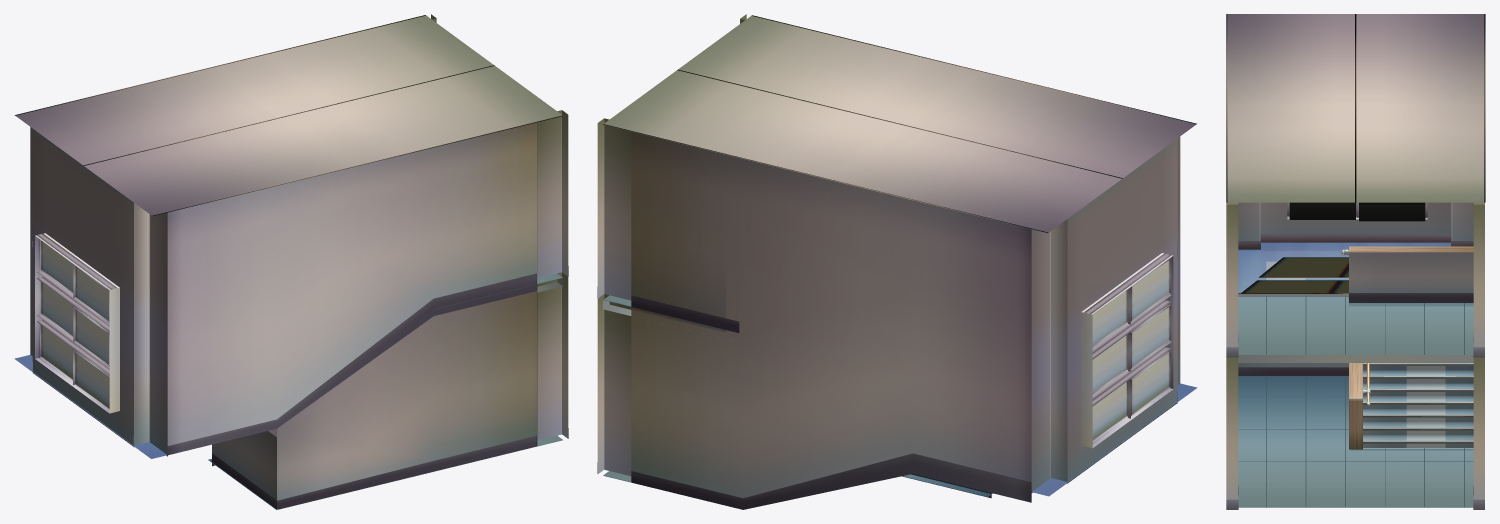
Rendered from JpsStairs_lowfloorB.FBX.
The picture shows the model from 3 angles, left to right: view 1: azimuth 30°, elevation 25°; view 2: azimuth 150°, elevation 25°; view 3: azimuth 270°, elevation 25°; orthographic projection. The views are drawn at different scales.
Visible parts, largest first — view 1: Sta_LowF_B_wallB, Sta_LowF_B_StairsCeiling, Sta_LowF_B_window, Sta_LowF_B_stairs; view 2: Sta_LowF_B_wallF, Sta_LowF_B_StairsCeiling, Sta_LowF_B_window, Sta_LowF_B_stairs; view 3: Sta_LowF_B_stairs, Sta_LowF_B_StairsCeiling, Sta_LowF_B_window, Sta_LowF_B_wallB, Sta_LowF_B_wallF, Sta_LowF_B_spotF, Sta_LowF_B_beam_add, Sta_LowF_B_baseboards.
Part boxes in pixels (x1,y1,x2,y2): Sta_LowF_B_wallB: (167,110,568,509); Sta_LowF_B_StairsCeiling: (14,15,562,216); Sta_LowF_B_window: (30,127,167,455); Sta_LowF_B_stairs: (14,273,562,509); Sta_LowF_B_wallF: (597,118,1031,509); Sta_LowF_B_StairsCeiling: (603,15,1196,233); Sta_LowF_B_window: (1031,136,1180,491); Sta_LowF_B_stairs: (603,295,1197,498); Sta_LowF_B_stairs: (1238,242,1473,507); Sta_LowF_B_StairsCeiling: (1226,14,1485,202); Sta_LowF_B_window: (1238,202,1473,240); Sta_LowF_B_wallB: (1226,202,1238,509); Sta_LowF_B_wallF: (1473,202,1484,509); Sta_LowF_B_spotF: (1238,257,1348,293); Sta_LowF_B_beam_add: (1289,202,1425,221); Sta_LowF_B_baseboards: (1238,234,1473,249).
Bounding box in the file's own units: 826 × 607 × 463.
